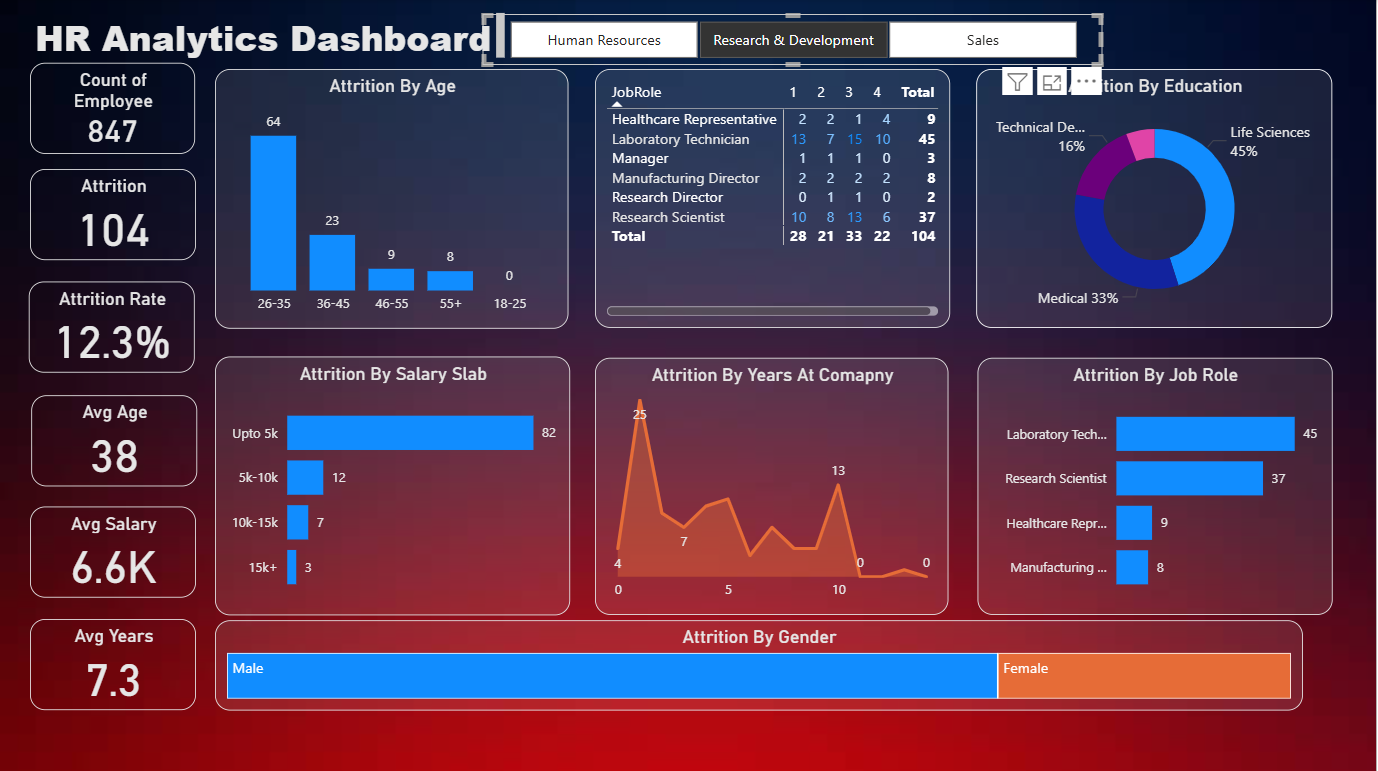

Layout of this report page (visuals, bound fields, positions):
{"tool":"powerbi","page":{"name":"Page 1","canvas":[1280,720],"ordinal":0},"visuals":[{"type":"card","title":"Attrition","fields":{"Values":["Sum(HR_Analytics.AttritionCount)"]},"box":[27.9,158.1,154.7,84.9],"z":0},{"type":"card","title":"Attrition Rate","fields":{"Values":["HR_Analytics.AttritionRate"]},"box":[26.7,262.8,154.7,84.9],"z":1000},{"type":"card","title":"Avg Age","fields":{"Values":["Avg(HR_Analytics.Age)"]},"box":[29.1,368.6,154.7,84.9],"z":2000},{"type":"card","title":"Avg Salary","fields":{"Values":["Avg(HR_Analytics.MonthlyIncome)"]},"box":[27.9,472.1,154.7,84.9],"z":3000},{"type":"card","title":"Avg Years","fields":{"Values":["Avg(HR_Analytics.YearsAtCompany)"]},"box":[27.9,576.7,154.7,84.9],"z":4000},{"type":"donutChart","title":"Attrition By Education","fields":{"Category":["HR_Analytics.EducationField"],"Y":["Sum(HR_Analytics.AttritionCount)"]},"box":[908.1,65.1,331.4,240.7],"z":5000},{"type":"columnChart","title":"Attrition By Age","fields":{"Category":["HR_Analytics.AgeGroup"],"Y":["Sum(HR_Analytics.AttritionCount)"]},"box":[200,65.1,329.1,241.9],"z":6000},{"type":"pivotTable","fields":{"Rows":["HR_Analytics.JobRole"],"Columns":["HR_Analytics.JobSatisfaction"],"Values":["Sum(HR_Analytics.AttritionCount)"]},"box":[553.5,65.1,330.2,240.7],"z":7000},{"type":"barChart","title":"Attrition By Salary Slab","fields":{"Category":["HR_Analytics.SalarySlab"],"Y":["Sum(HR_Analytics.AttritionCount)"]},"box":[200,332.6,330.2,240.7],"z":8000},{"type":"barChart","title":"Attrition By Job Role","fields":{"Category":["HR_Analytics.JobRole"],"Y":["Sum(HR_Analytics.AttritionCount)"]},"box":[909.3,333.7,330.2,239.5],"z":9000},{"type":"areaChart","title":"Attrition By Years At Comapny","fields":{"Category":["HR_Analytics.YearsAtCompany"],"Y":["Sum(HR_Analytics.AttritionCount)"]},"box":[553.5,333.7,329.1,239.5],"z":10000},{"type":"treemap","title":"Attrition By Gender","fields":{"Group":["HR_Analytics.Gender"],"Values":["Sum(HR_Analytics.AttritionCount)"]},"box":[200,577.9,1011.6,83.7],"z":11000},{"type":"slicer","fields":{"Values":["HR_Analytics.Department"]},"box":[448.8,14,576.7,47.7],"z":12000},{"type":"card","title":"Count of Employee","fields":{"Values":["CountNonNull(HR_Analytics.EmpID)"]},"box":[27.9,59.3,153.5,84.9],"z":13000},{"type":"textbox","box":[28.3,8.3,446.7,53.3],"z":14000}]}

Visuals, with their boxes in screenshot pixels (x1, y1, x2, y2), scaled from the page's 1280x720 canvas onto the 1378x771 screenshot:
"Attrition" card: pyautogui.locateOnScreen(30, 169, 197, 260)
"Attrition Rate" card: pyautogui.locateOnScreen(29, 281, 195, 372)
"Avg Age" card: pyautogui.locateOnScreen(31, 395, 198, 486)
"Avg Salary" card: pyautogui.locateOnScreen(30, 506, 197, 596)
"Avg Years" card: pyautogui.locateOnScreen(30, 618, 197, 708)
"Attrition By Education" donutChart: pyautogui.locateOnScreen(978, 70, 1334, 327)
"Attrition By Age" columnChart: pyautogui.locateOnScreen(215, 70, 570, 329)
pivotTable - HR_Analytics.JobRole x HR_Analytics.JobSatisfaction: pyautogui.locateOnScreen(596, 70, 951, 327)
"Attrition By Salary Slab" barChart: pyautogui.locateOnScreen(215, 356, 571, 614)
"Attrition By Job Role" barChart: pyautogui.locateOnScreen(979, 357, 1334, 614)
"Attrition By Years At Comapny" areaChart: pyautogui.locateOnScreen(596, 357, 950, 614)
"Attrition By Gender" treemap: pyautogui.locateOnScreen(215, 619, 1304, 708)
slicer - HR_Analytics.Department: pyautogui.locateOnScreen(483, 15, 1104, 66)
"Count of Employee" card: pyautogui.locateOnScreen(30, 64, 195, 154)
textbox: pyautogui.locateOnScreen(30, 9, 511, 66)
